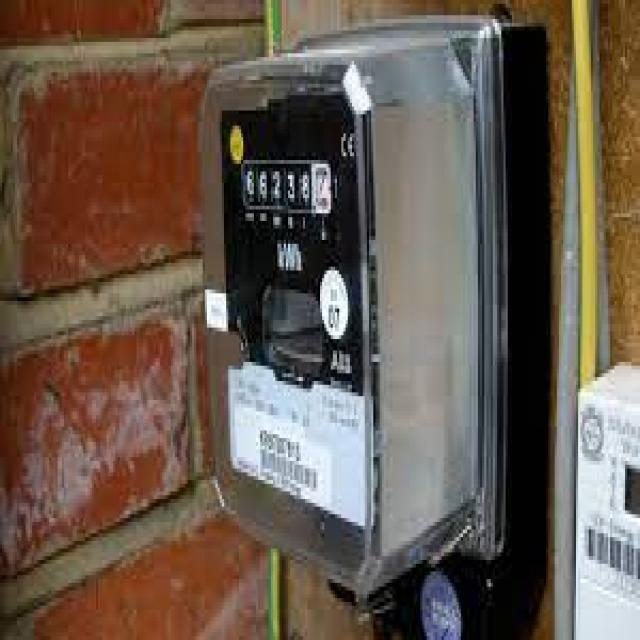2: (272, 166, 283, 208)
3: (285, 168, 297, 209)
6: (257, 167, 269, 206)
8: (299, 166, 313, 209)
analog meter: (229, 162, 346, 218)
